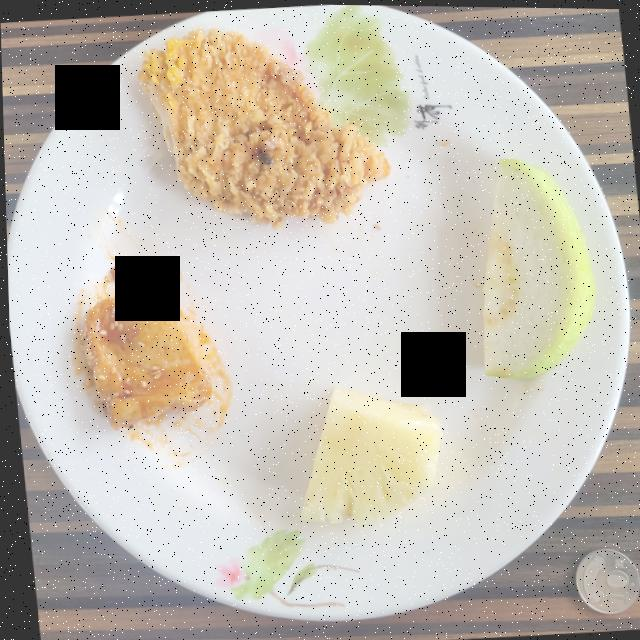coin: (572, 546, 636, 611)
creamy tofu: (78, 291, 209, 428)
fried chicken cutlet: (137, 26, 388, 226)
guava -sliced-: (480, 156, 593, 375)
pineapple: (297, 384, 440, 524)
